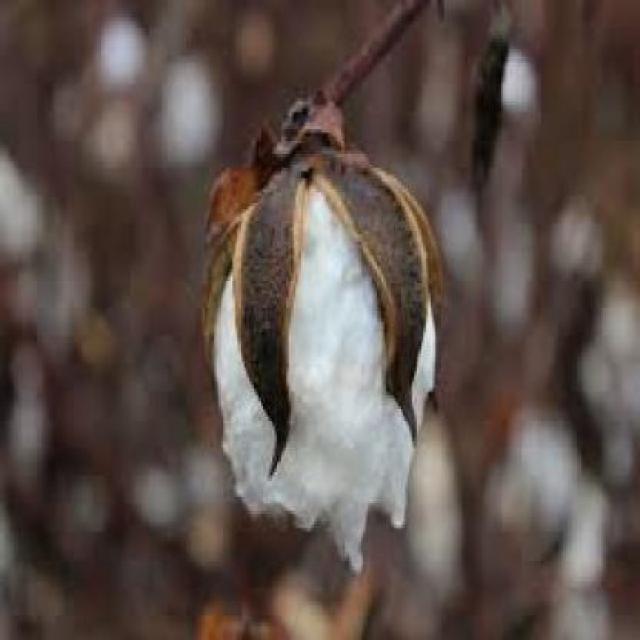cotton_ready: (133, 119, 450, 535)
